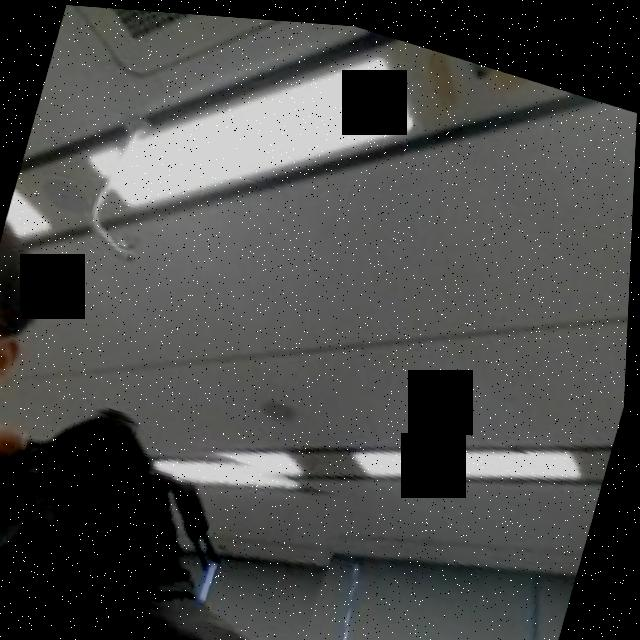shoe: (0, 367, 362, 640)
